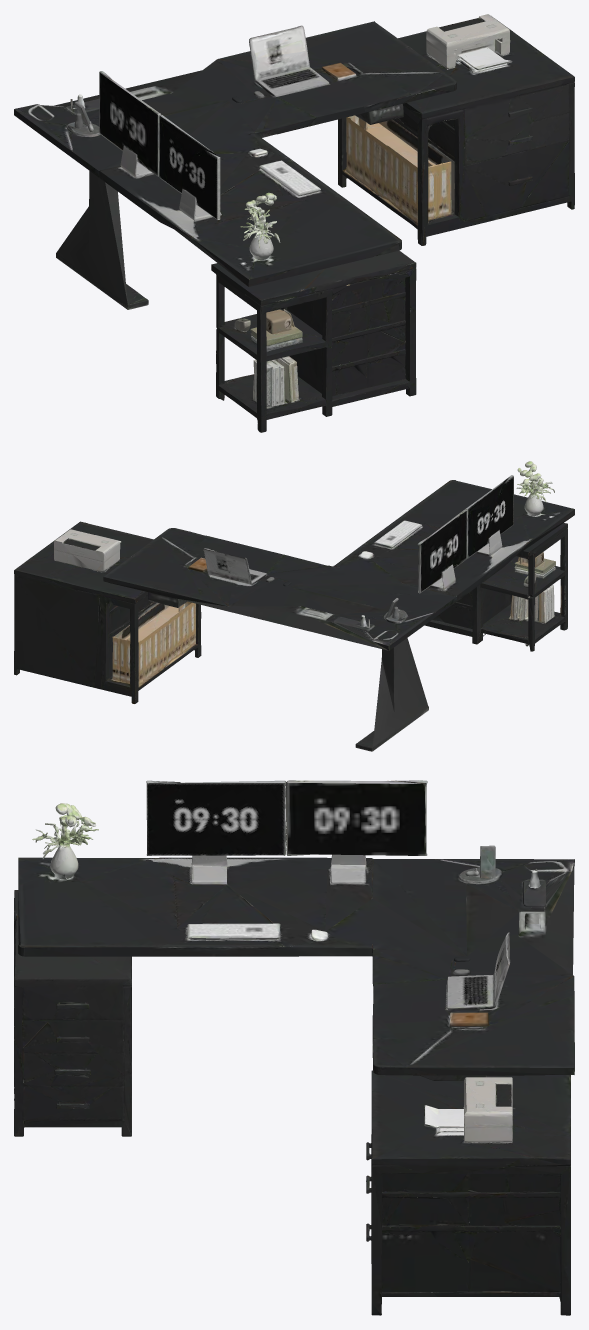
File: wayfair-com-furniture-pdp-latitude-run-farmhouse-l-shaped-el-68b6c5.glb
3 views of the same model, one above another, from view 1: azimuth 30°, elevation 25°; view 2: azimuth 150°, elevation 25°; view 3: azimuth 270°, elevation 25° (orthographic). The views are drawn at different scales.
Parts seen in each view (by area): view 1: Mesh_0; view 2: Mesh_0; view 3: Mesh_0.
Part boxes in pixels (<box>): Mesh_0: <box>14,14,574,432</box>; Mesh_0: <box>14,461,574,751</box>; Mesh_0: <box>14,780,574,1315</box>.
Size of the model in its own units: 1.9 by 0.885 by 1.64.
1 material, 1 textured.
